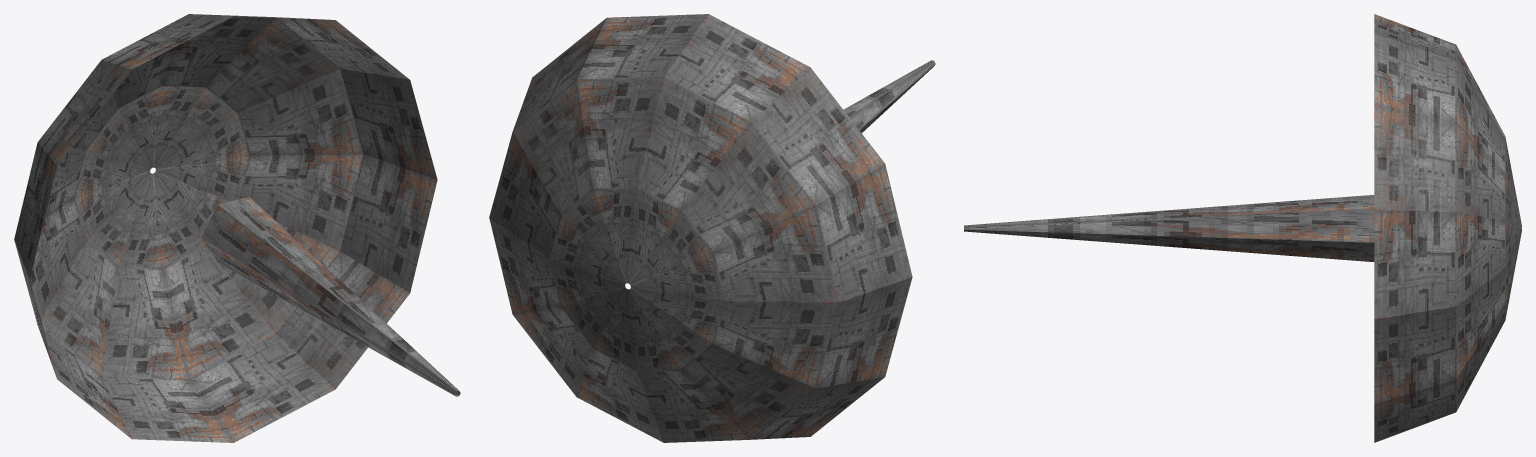
Rendered from radar.obj.
The picture shows the model from 3 angles, left to right: view 1: azimuth 30°, elevation 25°; view 2: azimuth 150°, elevation 25°; view 3: azimuth 270°, elevation 25°; orthographic projection. The views are drawn at different scales.
Size of the model in its own units: 1.57 by 1.57 by 2.04.
Materials: 1 (1 with a texture image).
